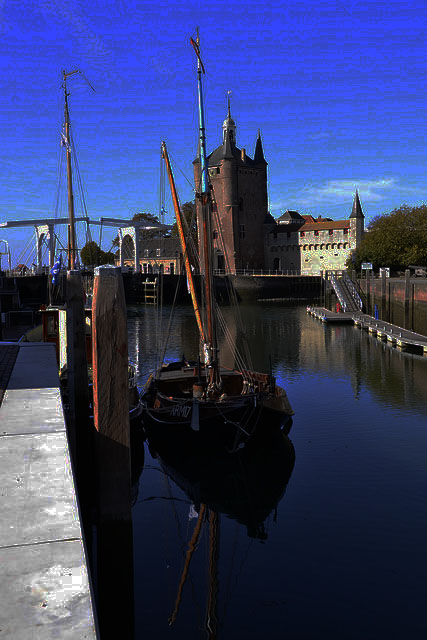fishing_boat: (140, 40, 303, 459)
